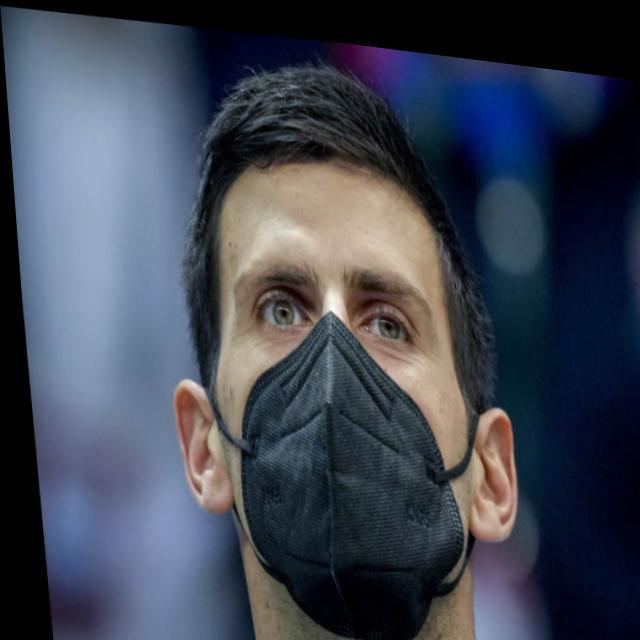Nonhelmet: (168, 60, 526, 635)
